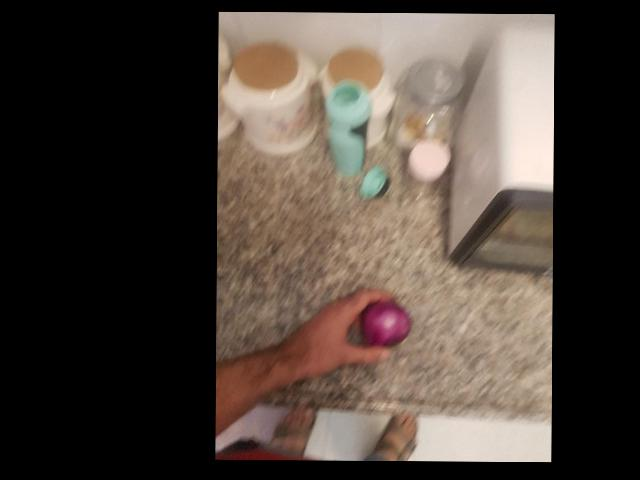onion: (500, 151, 552, 195)
